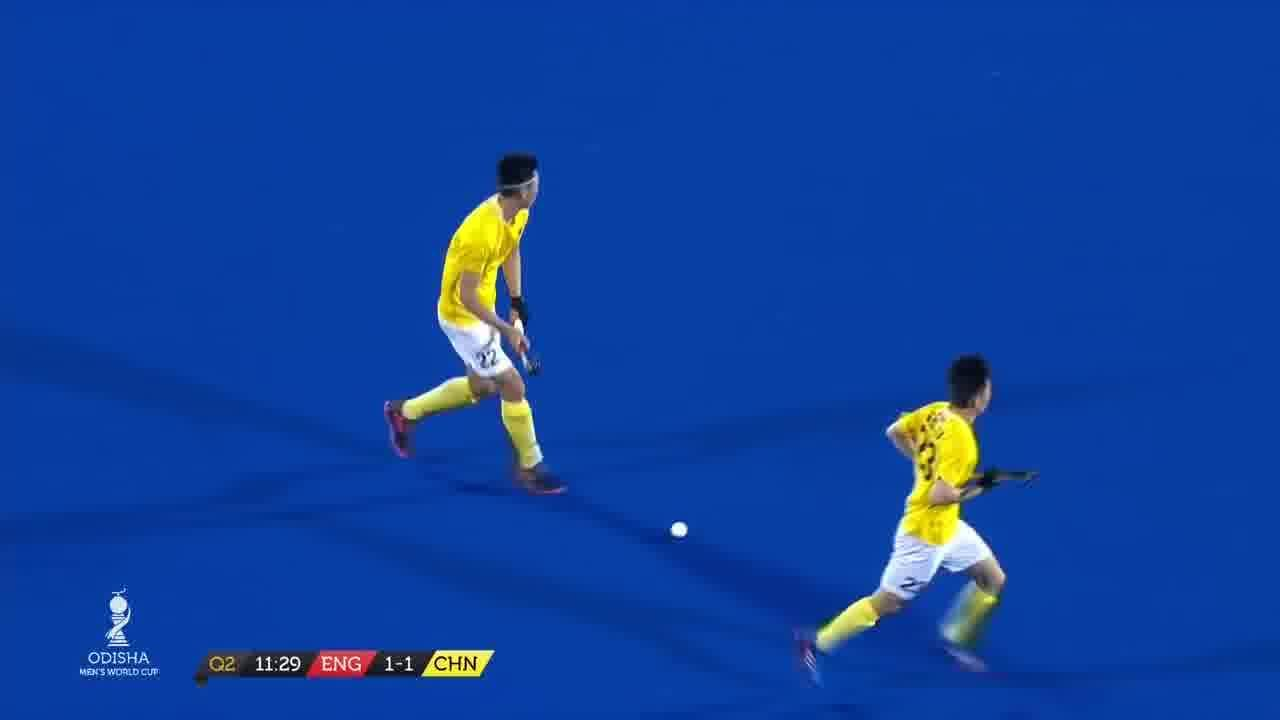ball: (660, 512, 698, 548)
